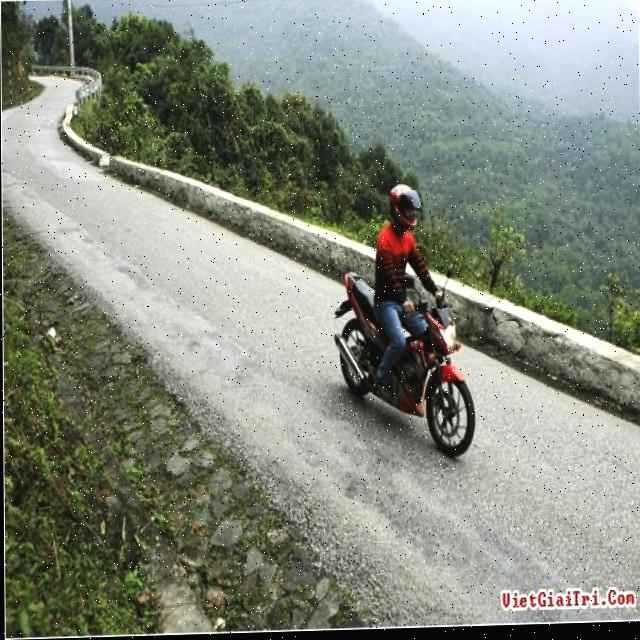motorcycle: (329, 257, 483, 463)
